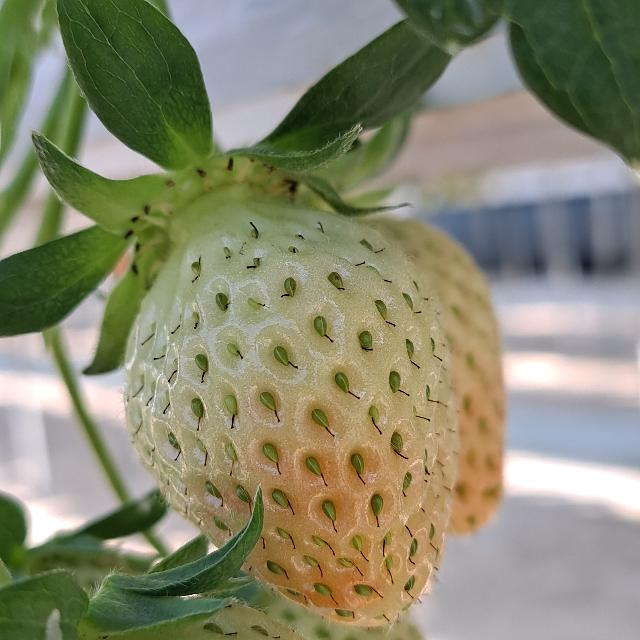Health_50: (120, 187, 460, 627)
